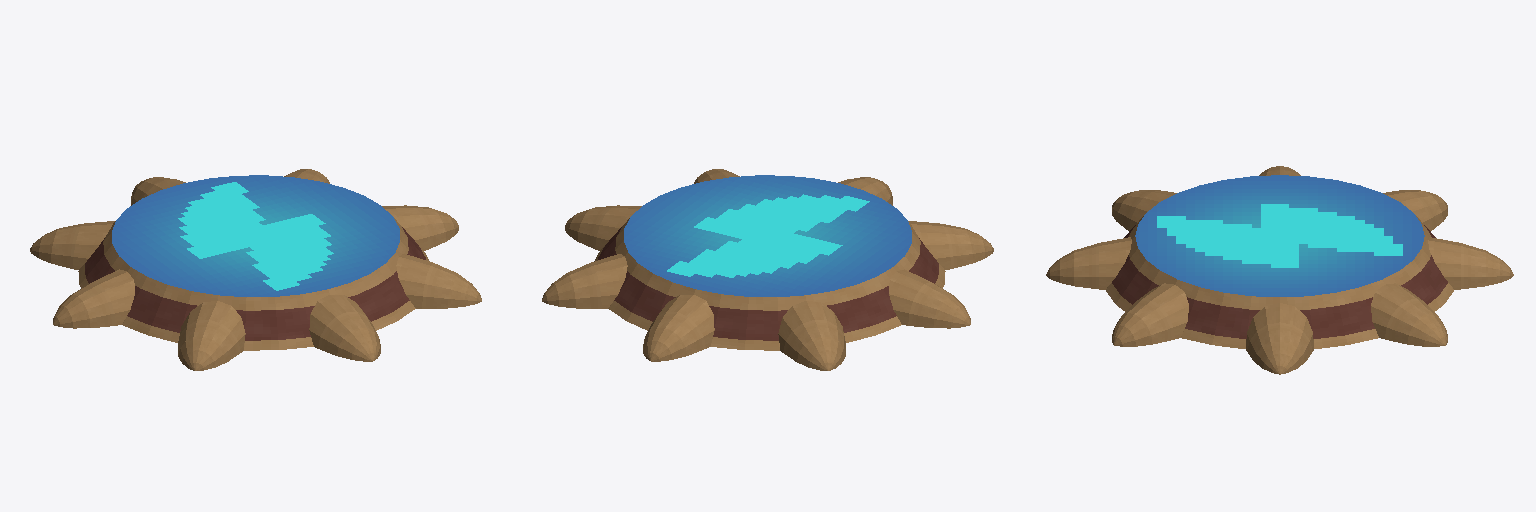
3 renders of one model, left to right at view 1: azimuth 30°, elevation 25°; view 2: azimuth 150°, elevation 25°; view 3: azimuth 270°, elevation 25°, orthographic.
Visible parts, largest first — view 1: Cone.006; view 2: Cone.006; view 3: Cone.006.
Boxes of the visible parts, <box> form: Cone.006: <box>30,169,481,370</box>; Cone.006: <box>542,169,993,370</box>; Cone.006: <box>1046,166,1513,374</box>.
Size of the model in its own units: 3.24 by 0.3 by 3.24.
Materials: 8 (1 with a texture image).